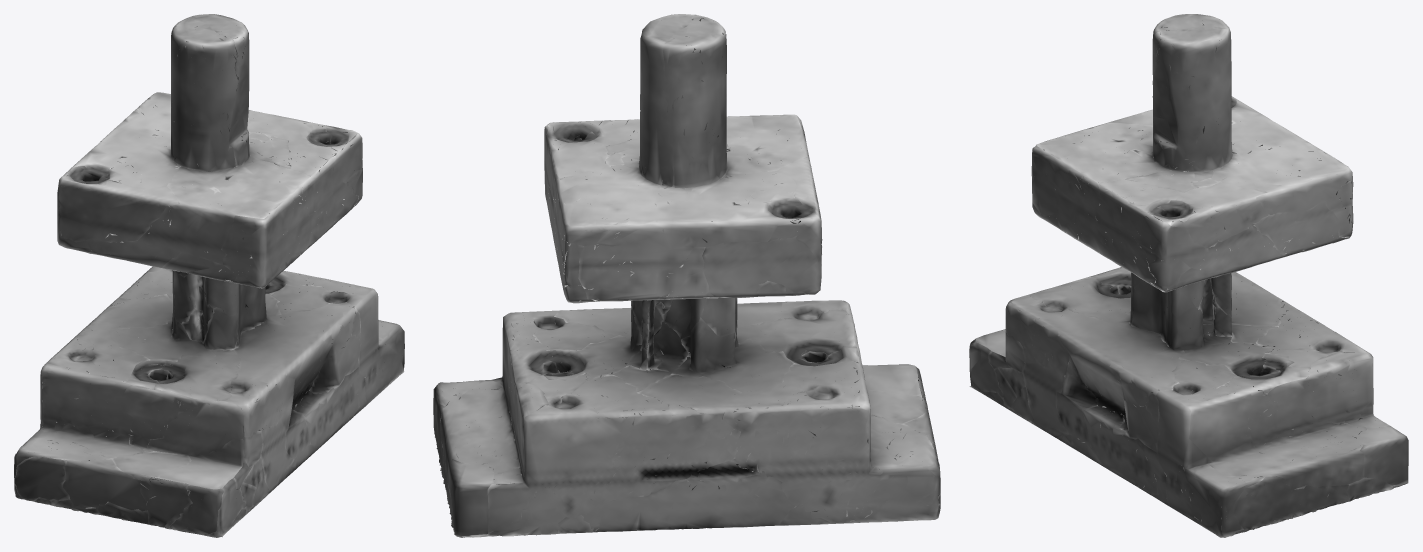
Rendered from industrial_stamp_low.glb.
3 renders of one model, left to right at view 1: azimuth 30°, elevation 25°; view 2: azimuth 150°, elevation 25°; view 3: azimuth 270°, elevation 25°, orthographic. The views are drawn at different scales.
Parts seen in each view (by area): view 1: Object_4, Object_5, Object_6; view 2: Object_4, Object_5, Object_6, Object_7; view 3: Object_5, Object_4, Object_6.
Boxes of the visible parts, box(x1,y1,x2,y2) form: Object_4: box(14, 14, 404, 537); Object_5: box(41, 20, 365, 459); Object_6: box(14, 14, 404, 533); Object_4: box(433, 14, 940, 537); Object_5: box(454, 14, 906, 517); Object_6: box(433, 15, 940, 536); Object_7: box(436, 415, 928, 537); Object_5: box(1005, 17, 1389, 462); Object_4: box(969, 14, 1407, 537); Object_6: box(969, 14, 1408, 534).
Size of the model in its own units: 3.45 by 3.15 by 3.08.
Materials: 2 (2 with a texture image).
